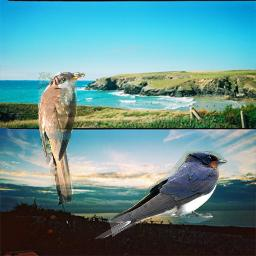Cuckoo: (38, 72, 85, 203)
Swallow: (95, 151, 227, 243)
